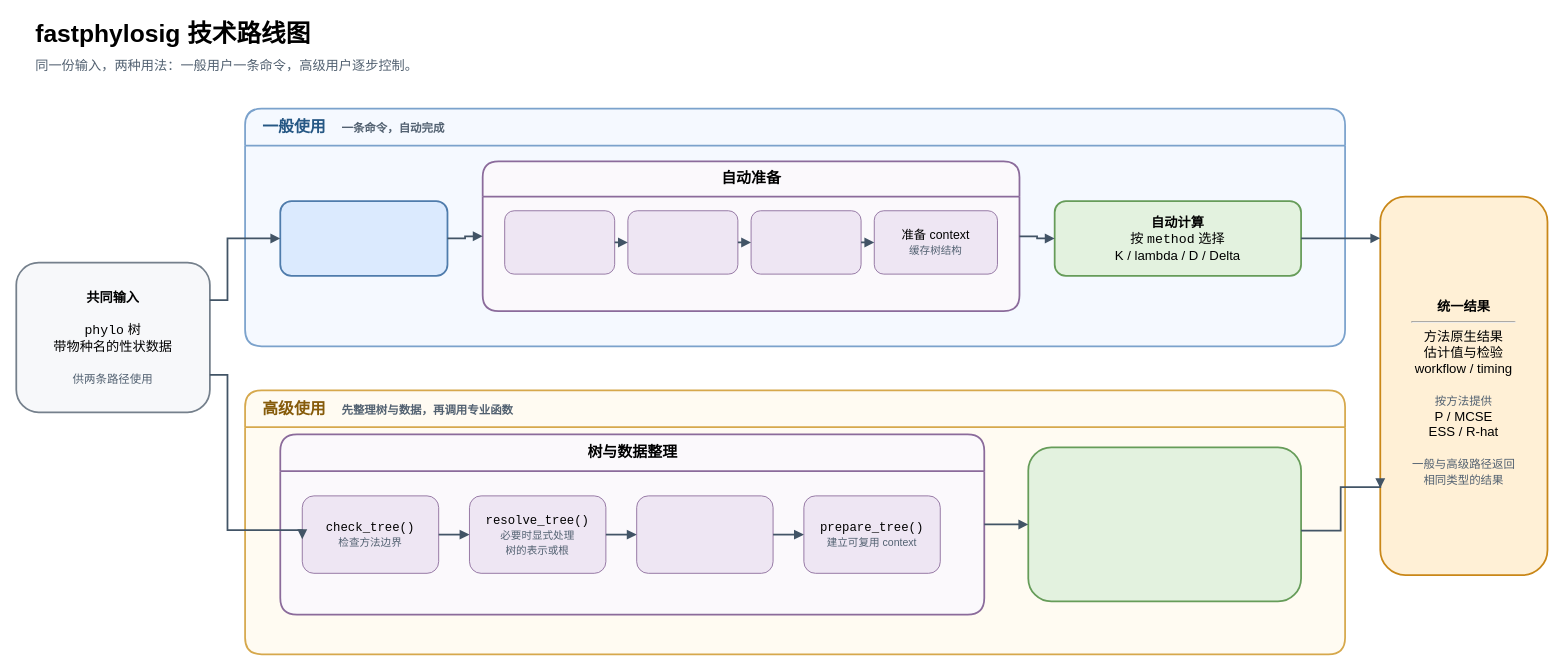
The diagram is 1563 pixels wide and 670 high, and some of its shapes have lost their labels. Here are the shapes that lost their labels. From the top down, the centre of each, then its label:
At pixel 363 238: "fast_signal() tree, data, method".
At pixel 559 242: "检查树 方法就绪性".
At pixel 682 242: "匹配物种 按名称重排".
At pixel 805 242: "处理 NA 按性状保留".
At pixel 704 534: "match_tree_data() 匹配并记录移除".
At pixel 1164 524: "系统发育信号计算 K fast_k() lambda fast_lambda() D fast_d() Delta fast_delta()".
